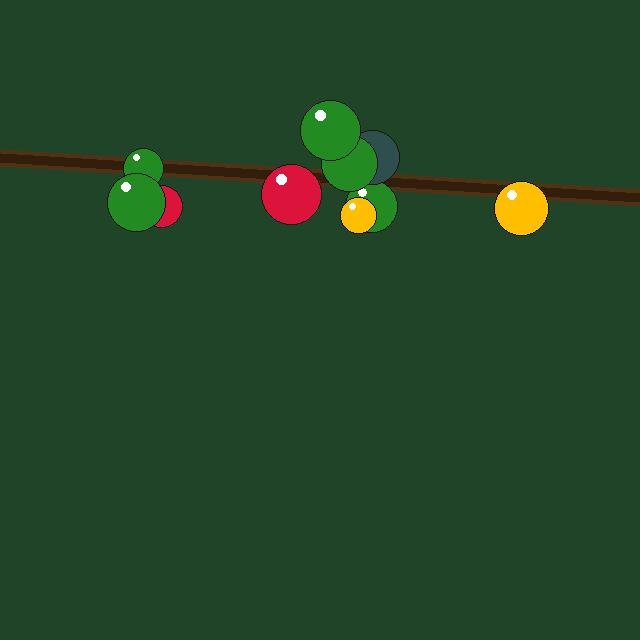Dry_Damaged: (345, 130, 399, 184)
Ripe: (261, 164, 321, 224), (140, 185, 182, 227)
Ripening: (494, 181, 548, 235), (340, 197, 376, 233)
Unripe: (300, 100, 360, 160), (107, 173, 165, 231), (321, 135, 377, 191), (345, 180, 397, 232), (123, 148, 163, 188)
